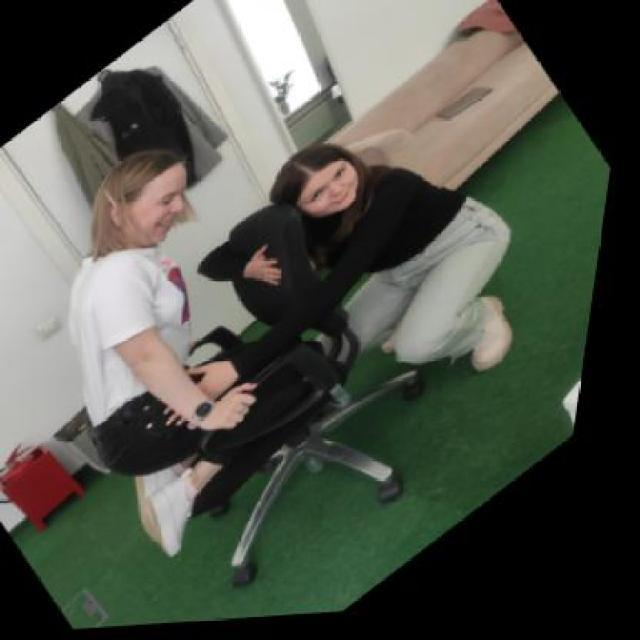chair: (52, 168, 525, 630)
